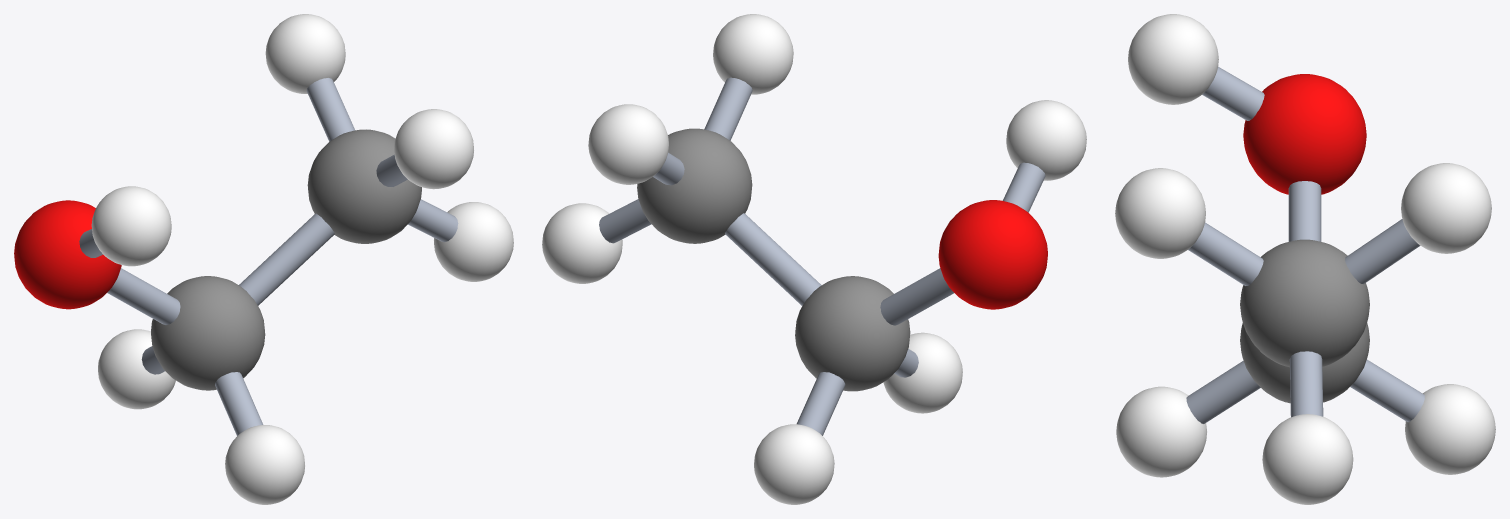
File: ethanol.glb
The picture shows the model from 3 angles, left to right: view 1: azimuth 30°, elevation 25°; view 2: azimuth 150°, elevation 25°; view 3: azimuth 270°, elevation 25°; orthographic projection. The views are drawn at different scales.
Visible parts, largest first — view 1: H (×6), C (×2), bond (×6), O; view 2: H (×6), C (×2), bond (×7), O; view 3: H (×6), C (×2), bond (×7), O.
Part boxes in pixels (box(x1,y1,x2,y2)): H (×6): box(91, 14, 513, 504); C (×2): box(151, 129, 421, 390); bond (×6): box(107, 78, 458, 435); O: box(14, 200, 121, 309); H (×6): box(542, 14, 1086, 504); C (×2): box(637, 128, 910, 391); bond (×7): box(599, 77, 1045, 435); O: box(938, 200, 1047, 309); H (×6): box(1115, 14, 1495, 504); C (×2): box(1240, 239, 1369, 403); bond (×7): box(1186, 66, 1424, 423); O: box(1243, 74, 1366, 194).
Bounding box in the file's own units: 0.22 × 0.1511 × 0.131.
